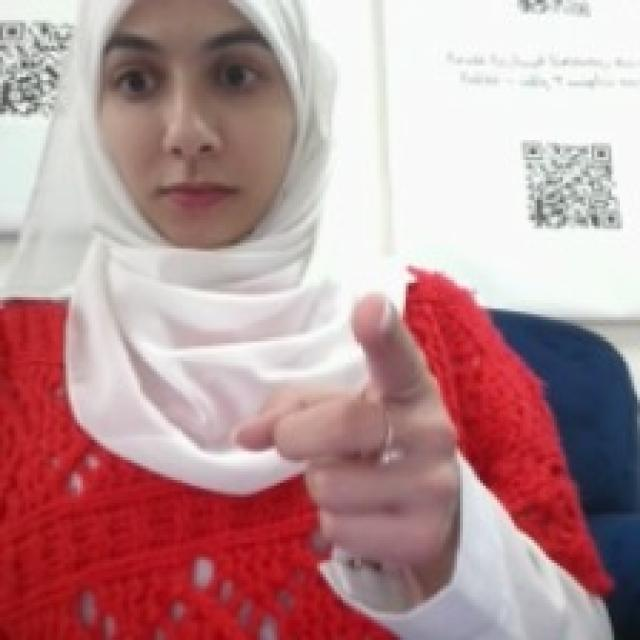you: (225, 284, 465, 570)
